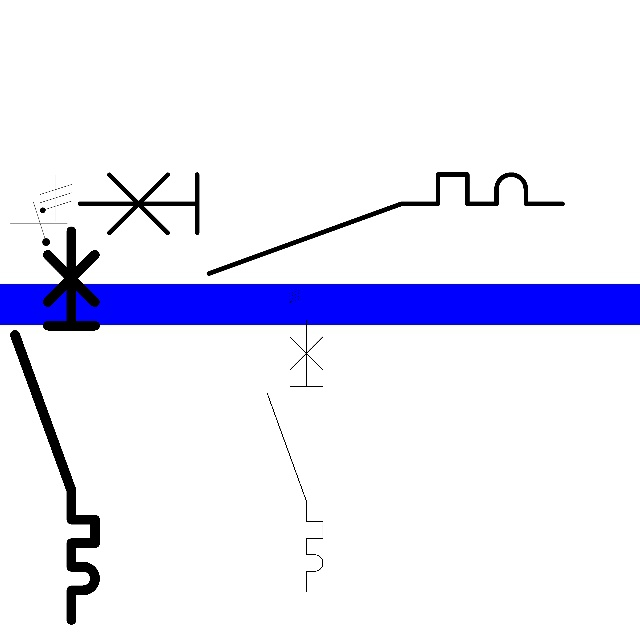interruptor_termomagnetico: (67, 162, 575, 286), (5, 221, 105, 629), (260, 313, 330, 598)
